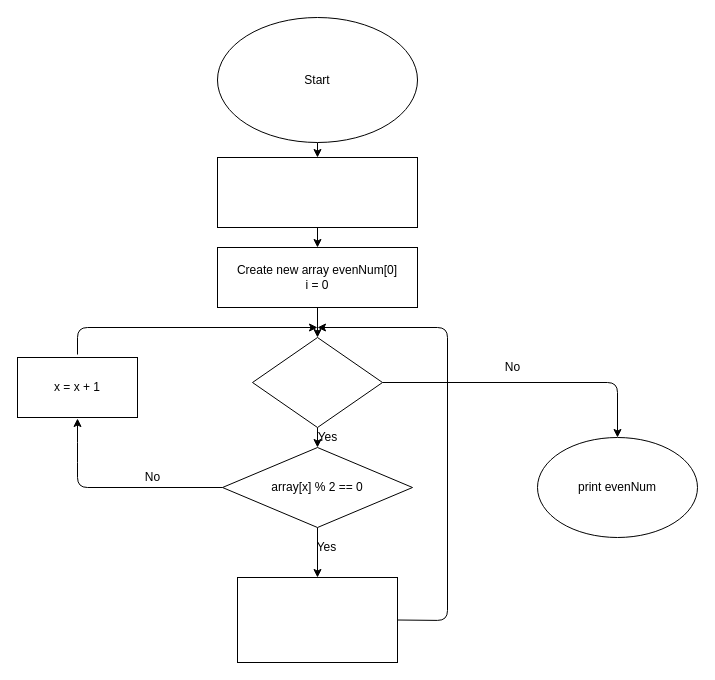
Image size: 715x680. Some labels were removed from this diagram. Here are the shapes that lost their labels. From the top down, the centre of each, then its label:
the point at 317,192: array = {a, b , c... n} x = 0 n = array.Length
the point at 317,382: x < n
the point at 317,619: Array.Resize(evenNum, i + 1) e venNum[i] = array[x] x = x + 1 i = i + 1
